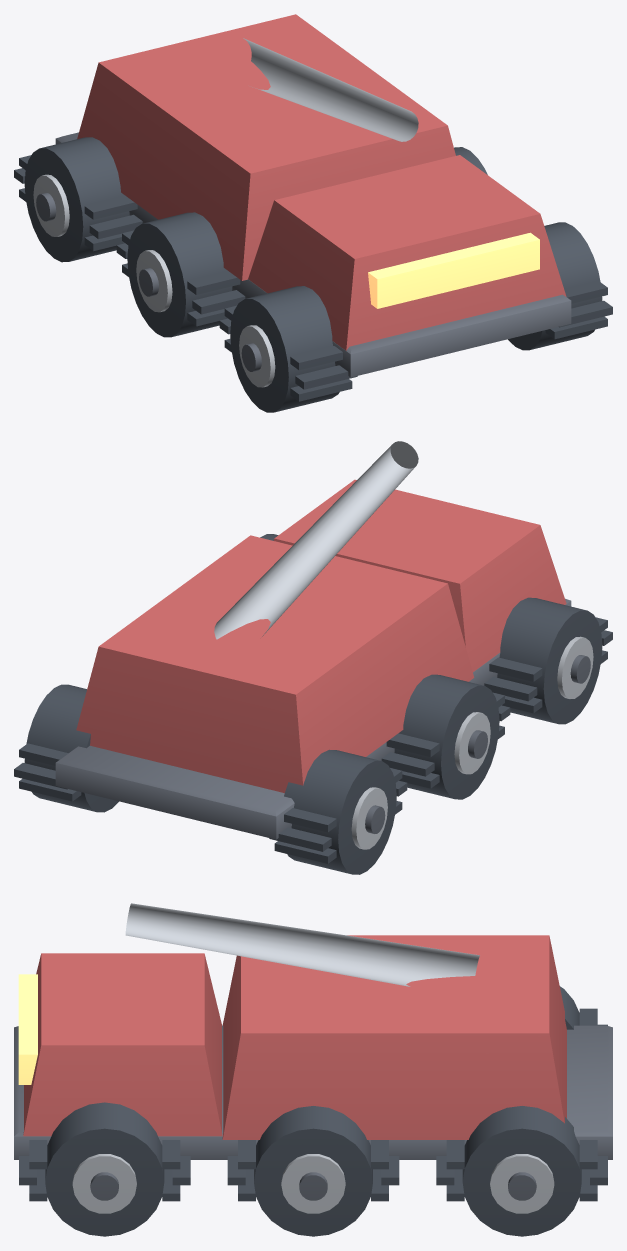
File: smcv.glb
3 views of the same model, one above another, from view 1: azimuth 30°, elevation 25°; view 2: azimuth 150°, elevation 25°; view 3: azimuth 270°, elevation 25° (orthographic).
Visible parts, largest first — view 1: Hull; view 2: Hull; view 3: Hull.
Part boxes in pixels (box(x1,y1,x2,y2)): Hull: box(14, 14, 612, 412); Hull: box(14, 441, 612, 874); Hull: box(14, 903, 612, 1236).
Bounding box in the file's own units: 2.08 × 1.48 × 3.17.
